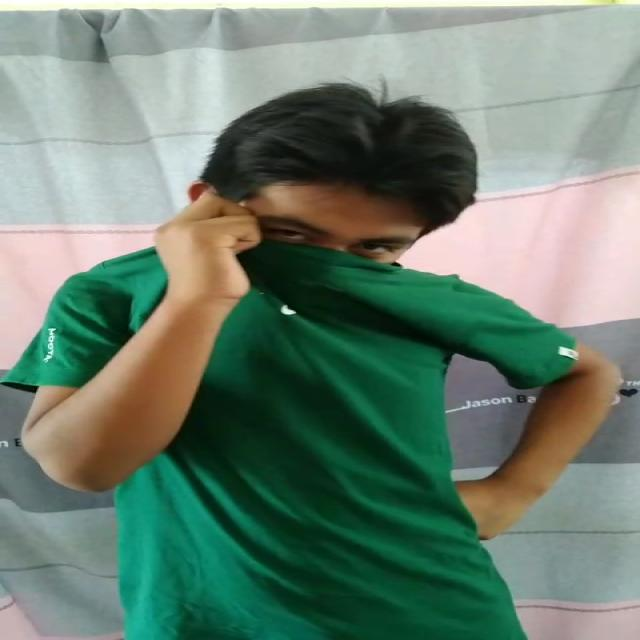8_ropa_rostro: (127, 226, 430, 334)
